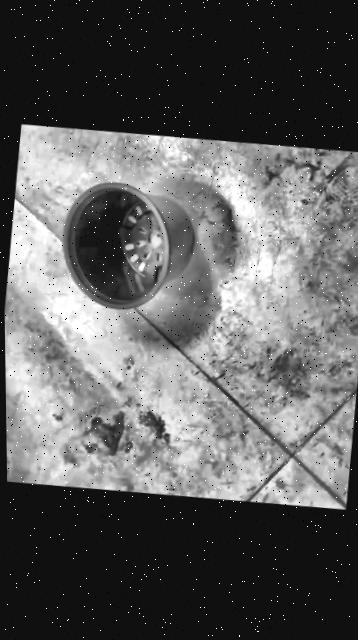pot: (57, 175, 202, 316)
